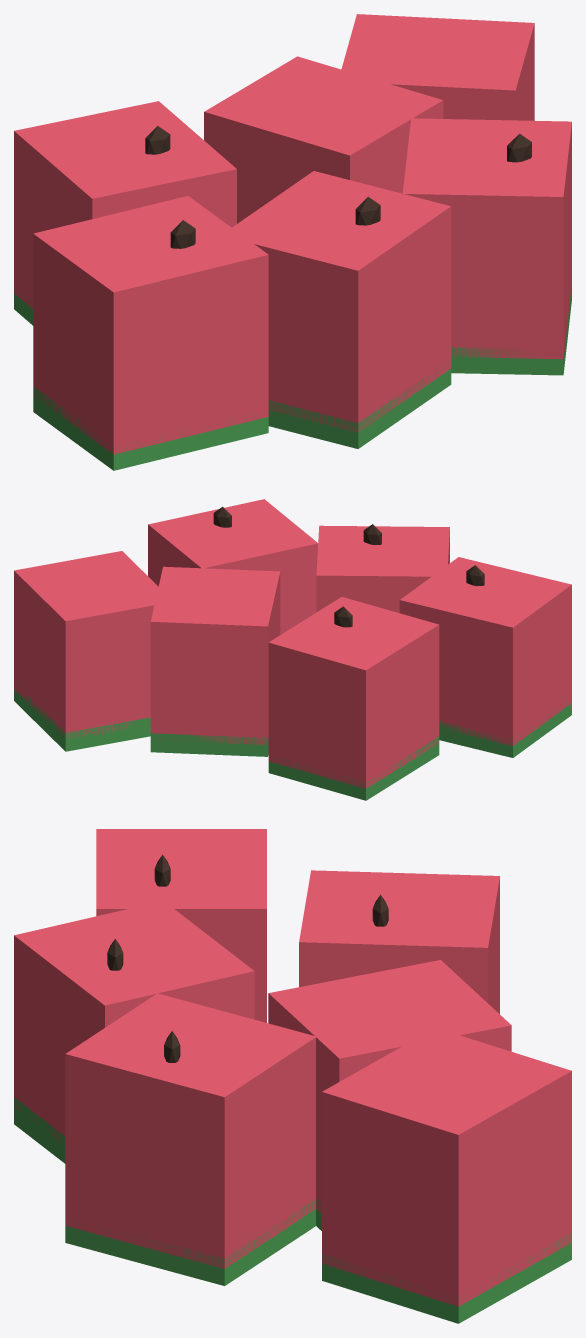
The model's file is FTF_Ingredient_Chopped_Watermelon.glb.
3 renders of one model, top to bottom at view 1: azimuth 30°, elevation 25°; view 2: azimuth 150°, elevation 25°; view 3: azimuth 270°, elevation 25°, orthographic. The views are drawn at different scales.
Parts seen in each view (by area): view 1: Watermelon_Cube_00, Watermelon_Rind_00, Watermelon_Seed_00; view 2: Watermelon_Cube_00, Watermelon_Rind_00, Watermelon_Seed_00; view 3: Watermelon_Cube_00, Watermelon_Rind_00, Watermelon_Seed_00.
Boxes of the visible parts, x1=… form: Watermelon_Cube_00: x1=14, y1=14, x2=571, y2=454; Watermelon_Rind_00: x1=14, y1=285, x2=571, y2=470; Watermelon_Seed_00: x1=145, y1=126, x2=531, y2=248; Watermelon_Cube_00: x1=14, y1=499, x2=571, y2=788; Watermelon_Rind_00: x1=14, y1=687, x2=571, y2=800; Watermelon_Seed_00: x1=213, y1=506, x2=484, y2=627; Watermelon_Cube_00: x1=14, y1=829, x2=571, y2=1306; Watermelon_Rind_00: x1=14, y1=1097, x2=571, y2=1323; Watermelon_Seed_00: x1=107, y1=854, x2=388, y2=1062.
Bounding box in the file's own units: 0.764 × 0.251 × 0.5889.
